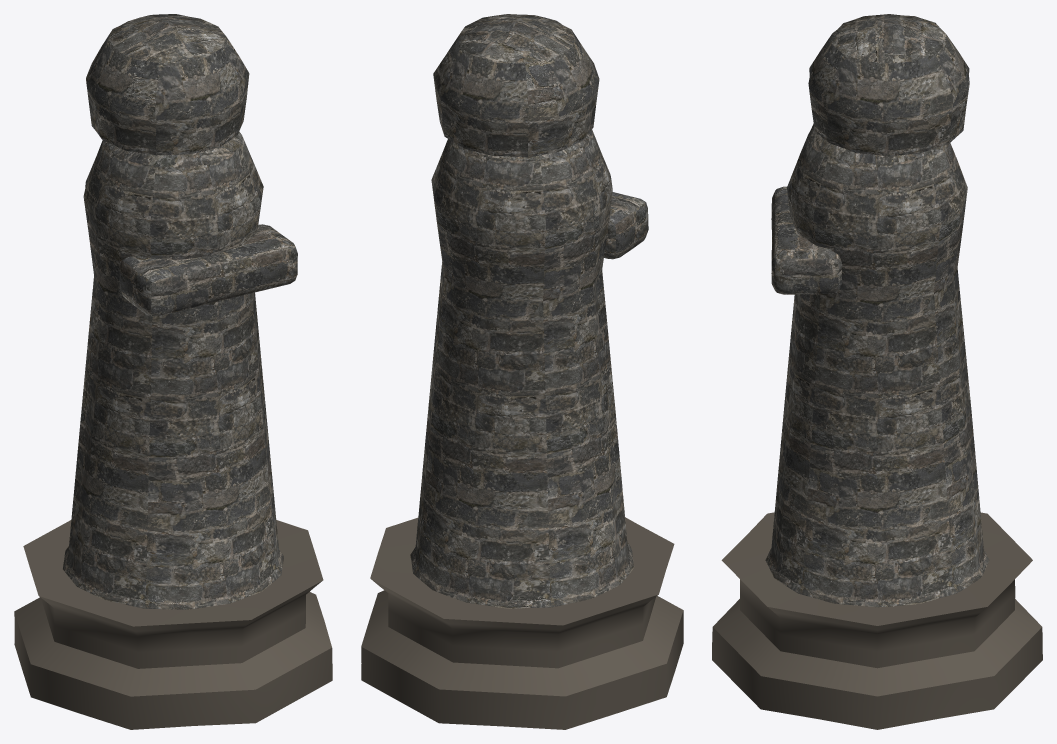
Rendered from deity-statue-v01.glb.
3 views of the same model, side by side, from view 1: azimuth 30°, elevation 25°; view 2: azimuth 150°, elevation 25°; view 3: azimuth 270°, elevation 25° (orthographic).
Visible parts, largest first — view 1: deity-statue; view 2: deity-statue; view 3: deity-statue.
Part boxes in pixels (x1,y1,x2,y2): deity-statue: [14, 14, 332, 729]; deity-statue: [361, 14, 683, 729]; deity-statue: [712, 14, 1042, 729].
Size of the model in its own units: 1.8 by 3.83 by 1.8.
Materials: 1 (1 with a texture image).
